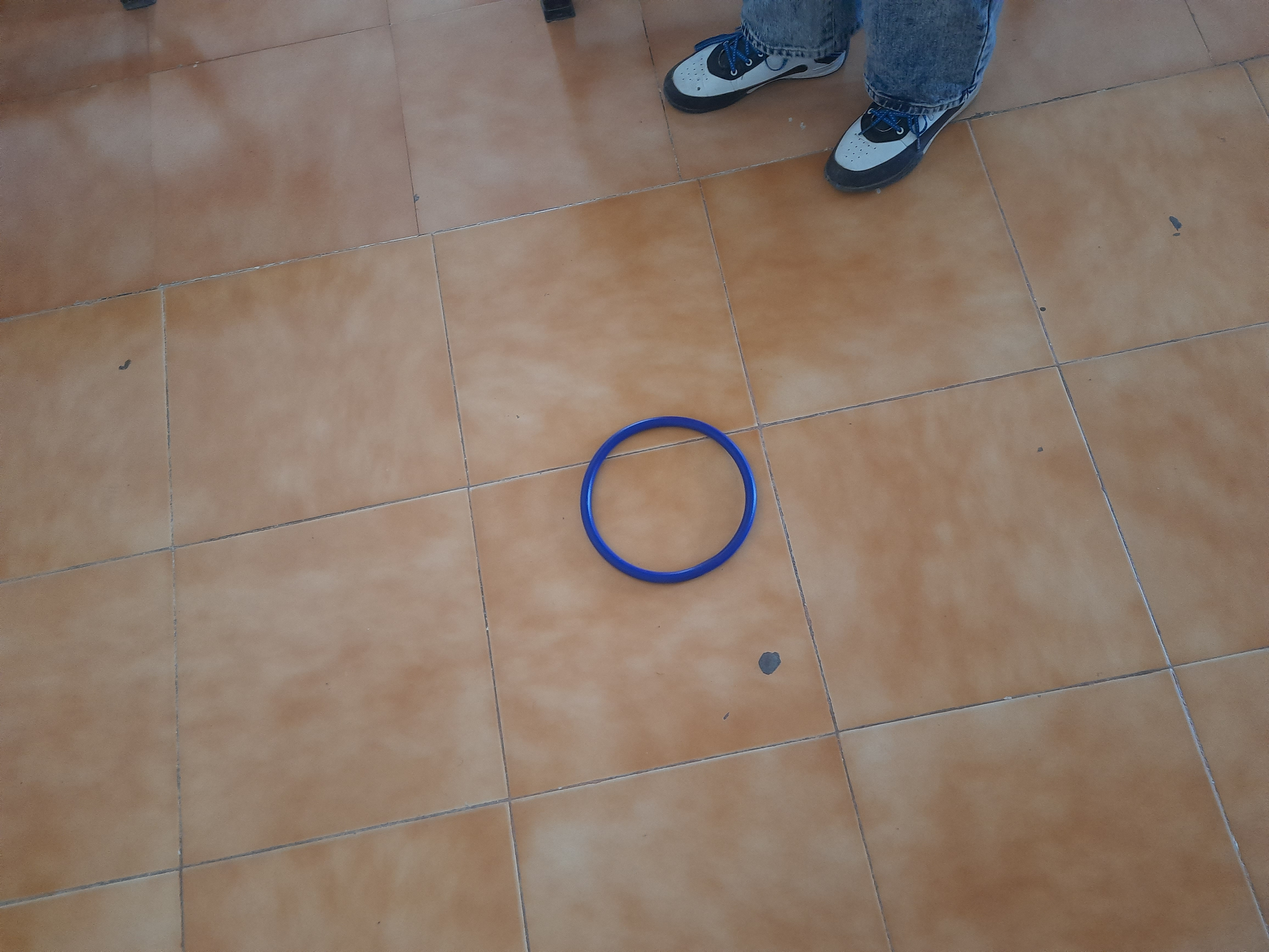Blue ring: (580, 415, 757, 583)
